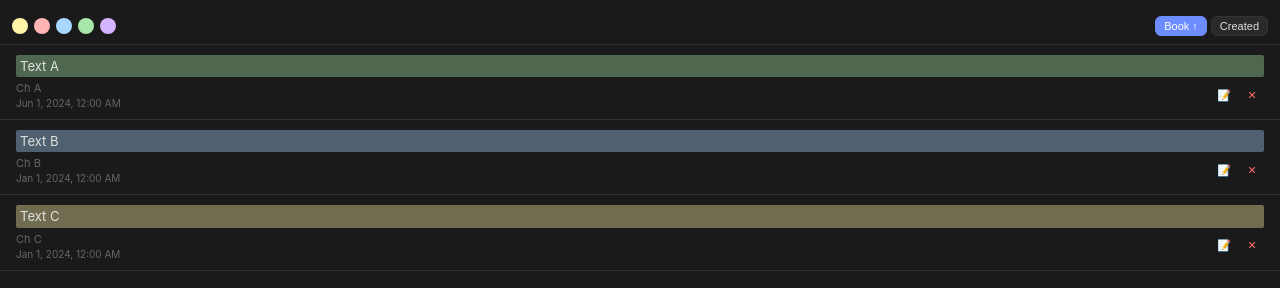
HighlightSidebar — sort direction toggle › switches ↑ to ↓ when Book order button is clicked
Click the button titled "Sort by position in book" at (1181, 26), box [1155,16,1207,36]
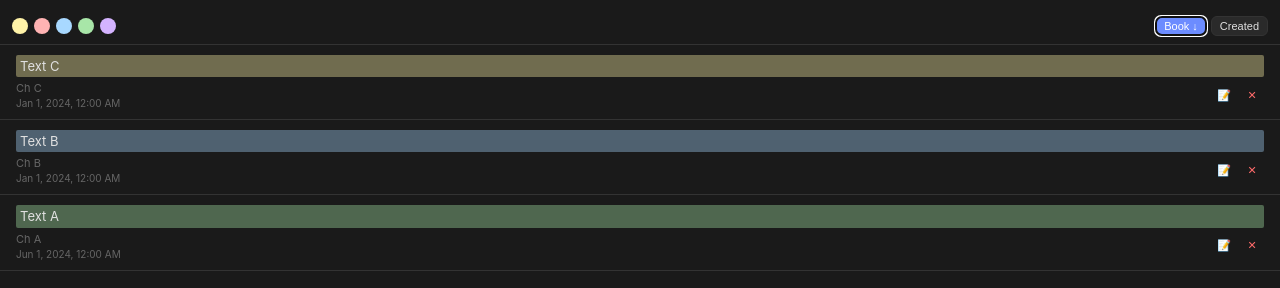
Check: the button titled "Sort by position in book" shows "↓", box [1155,16,1207,36]
